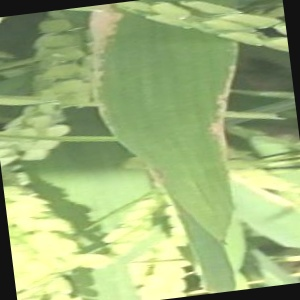Leaf_Blast: (159, 39, 241, 211)
